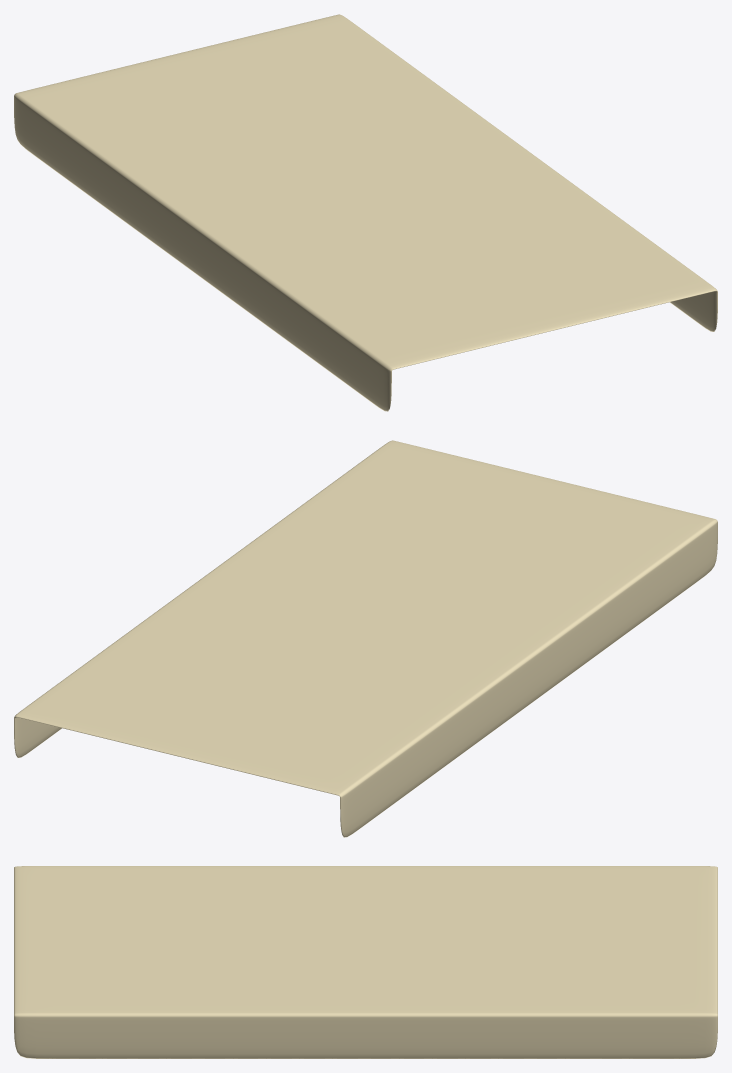
Rendered from 收银台盖布.fbx.
3 renders of one model, top to bottom at view 1: azimuth 30°, elevation 25°; view 2: azimuth 150°, elevation 25°; view 3: azimuth 270°, elevation 25°, orthographic. The views are drawn at different scales.
Parts seen in each view (by area): view 1: Cube.058; view 2: Cube.058; view 3: Cube.058.
Boxes of the visible parts, box(x1,y1,x2,y2) form: Cube.058: box(14, 14, 717, 411); Cube.058: box(14, 440, 717, 837); Cube.058: box(14, 866, 717, 1058).
Size of the model in its own units: 128 by 18.03 by 254.
